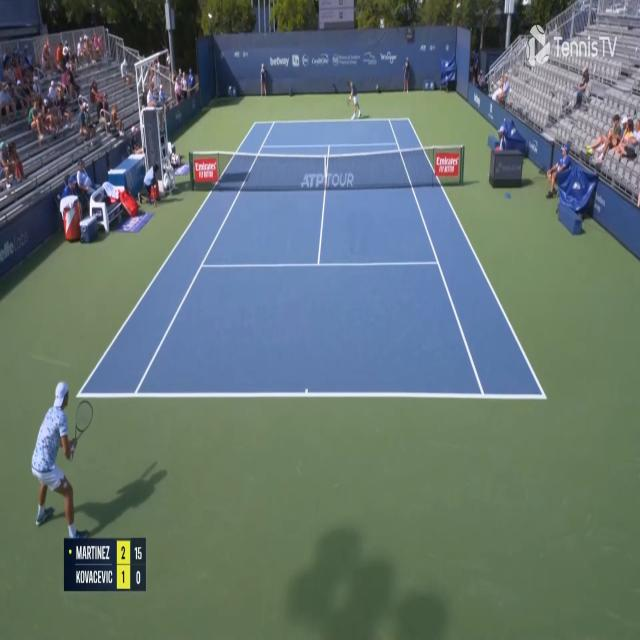tennis-player: (28, 376, 93, 542), (346, 78, 361, 122)
